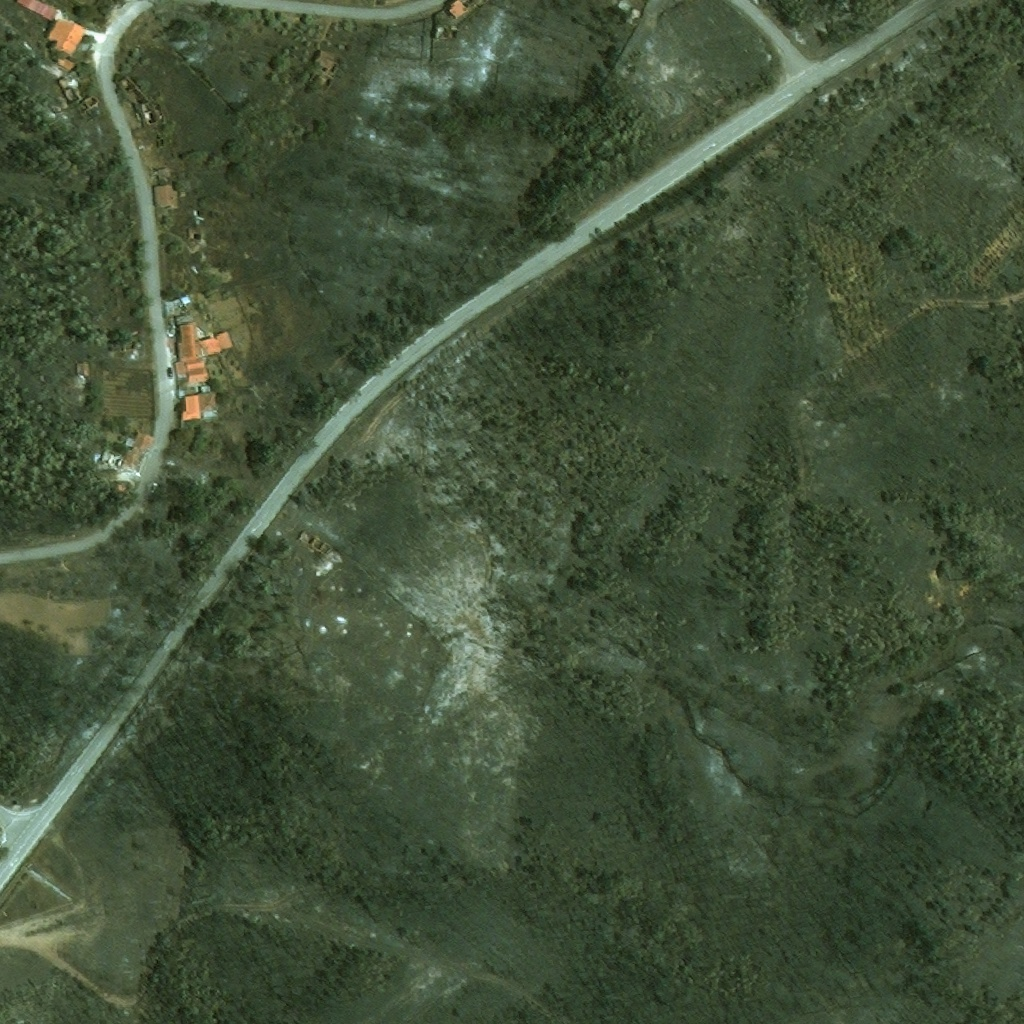0 no-damage: (43, 20, 86, 59), (173, 323, 199, 360), (12, 0, 54, 21), (174, 358, 207, 384), (151, 181, 175, 209), (129, 430, 153, 457), (120, 450, 144, 476), (179, 394, 199, 421), (198, 332, 219, 357), (216, 332, 230, 352), (200, 392, 215, 410), (55, 58, 72, 72), (200, 410, 215, 419), (124, 436, 134, 446), (199, 385, 210, 393)
3 destroyed: (53, 76, 85, 105), (615, 0, 648, 27), (136, 100, 165, 129), (115, 77, 145, 105), (312, 48, 342, 74), (167, 295, 193, 321), (99, 446, 125, 470), (186, 228, 208, 244), (435, 25, 458, 40), (168, 314, 180, 337), (147, 168, 164, 180), (200, 424, 213, 438), (30, 94, 42, 105)
4 un-classified: (444, 0, 480, 19)
